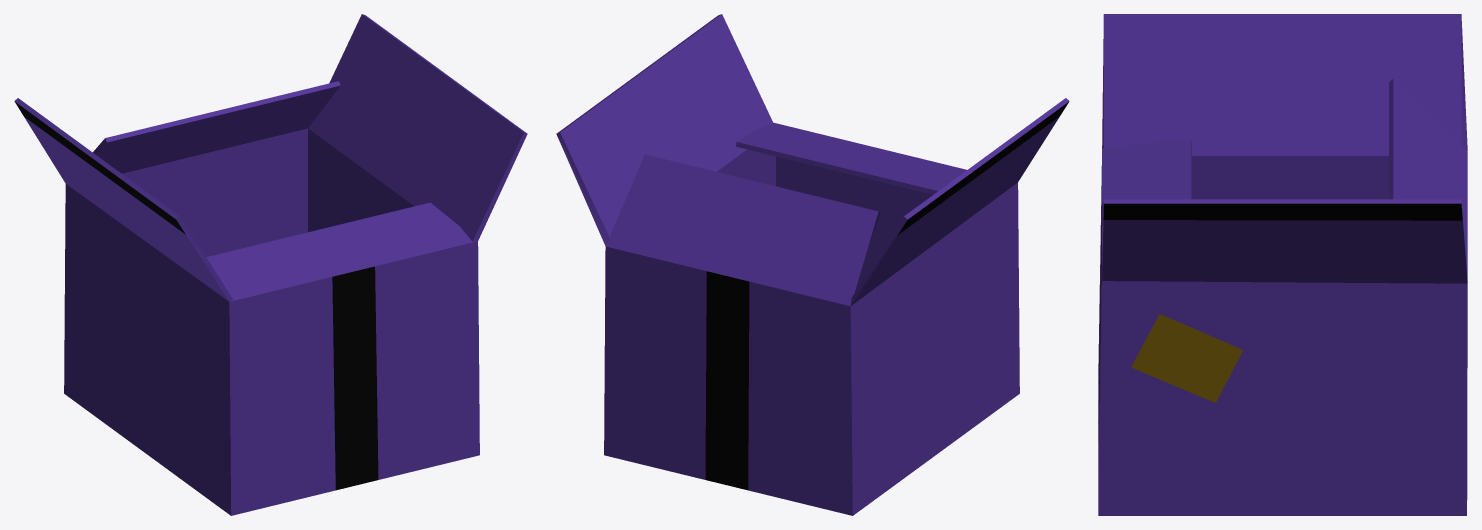
File: cardboardbox_opened.fbx
3 renders of one model, left to right at view 1: azimuth 30°, elevation 25°; view 2: azimuth 150°, elevation 25°; view 3: azimuth 270°, elevation 25°, orthographic. The views are drawn at different scales.
Visible parts, largest first — view 1: cardboardbox_opened; view 2: cardboardbox_opened; view 3: cardboardbox_opened.
Boxes of the visible parts, x1=… form: cardboardbox_opened: x1=14, y1=14, x2=527, y2=515; cardboardbox_opened: x1=556, y1=14, x2=1069, y2=515; cardboardbox_opened: x1=1098, y1=14, x2=1467, y2=515.
Size of the model in its own units: 50.25 by 42.29 by 41.45.
